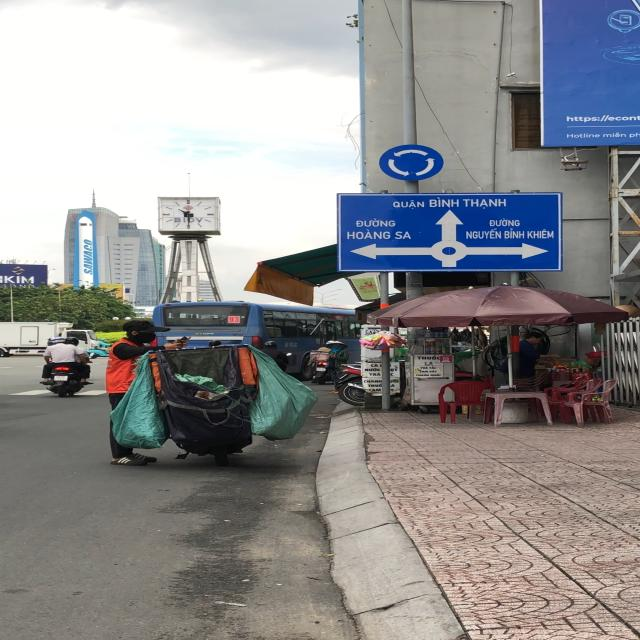Bien bao noi giao nhau chay theo vong xuyen: (378, 144, 450, 184)
